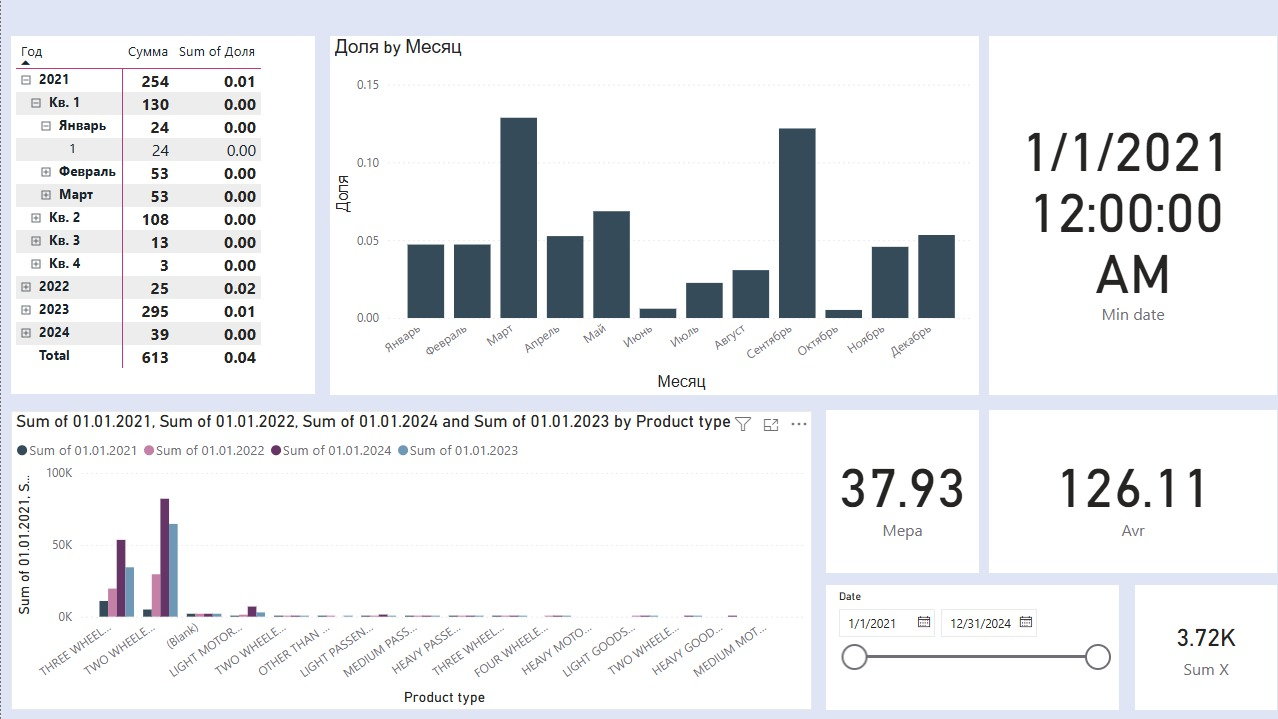

The page's visual inventory and layout, read from the dashboard file:
{"tool":"powerbi","page":{"name":"Доля, Сумма","canvas":[1280,720],"ordinal":1},"visuals":[{"type":"pivotTable","fields":{"Rows":["calendar.Date.Изменение.Иерархия дат.Год","calendar.Date.Изменение.Иерархия дат.Квартал","calendar.Date.Изменение.Иерархия дат.Месяц","calendar.Date.Изменение.Иерархия дат.День"],"Values":["Меры.Сумма","Sum(ev_sales_2021.Доля)"]},"box":[10,35.7,304.3,358.6],"z":0},{"type":"clusteredColumnChart","fields":{"Y":["Меры.Доля"],"Category":["calendar.Date.Изменение.Иерархия дат.Месяц"]},"box":[328.8,36.2,648.8,358.8],"z":1000},{"type":"clusteredColumnChart","fields":{"Category":["Vehicles.Product type"],"Y":["Sum(by_month.01.01.2021)","Sum(by_month.01.01.2022)","Sum(by_month.01.01.2024)","Sum(by_month.01.01.2023)"]},"box":[10,410.6,801.2,299.4],"z":2000},{"type":"card","fields":{"Values":["Меры.Мера"]},"box":[825,410,152.5,162.5],"z":3000},{"type":"card","fields":{"Values":["Меры.Min date"]},"box":[987.5,36.2,288.8,358.8],"z":4000},{"type":"slicer","fields":{"Values":["calendar.Date"]},"box":[825,585,292.5,125],"z":5000},{"type":"card","fields":{"Values":["Меры.Avr"]},"box":[987.5,410,288.8,162.5],"z":6000},{"type":"card","fields":{"Values":["Меры.Sum X"]},"box":[1133.8,585,142.5,125],"z":7000}]}

Visuals, with their boxes in screenshot pixels (x1, y1, x2, y2), scaled from the page's 1280x720 canvas onto the 1278x719 screenshot:
pivotTable - calendar.Date.Изменение.Иерархия дат.Год x calendar.Date.Изменение.Иерархия дат.Квартал: box(10, 36, 314, 394)
clusteredColumnChart - Меры.Доля x calendar.Date.Изменение.Иерархия дат.Месяц: box(328, 36, 976, 394)
clusteredColumnChart - Vehicles.Product type x Sum(by_month.01.01.2021): box(10, 410, 810, 709)
card - Меры.Мера: box(824, 409, 976, 572)
card - Меры.Min date: box(986, 36, 1274, 394)
slicer - calendar.Date: box(824, 584, 1116, 709)
card - Меры.Avr: box(986, 409, 1274, 572)
card - Меры.Sum X: box(1132, 584, 1274, 709)
